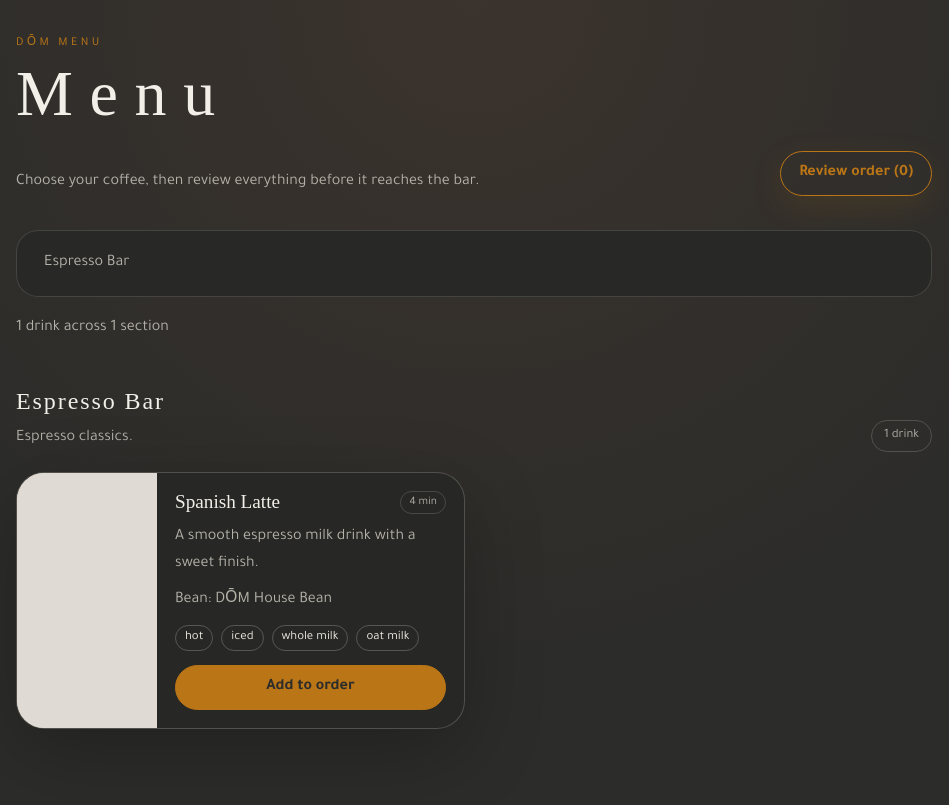
Test: Phase 3 guest frontend › removes the last drink from the cart and returns to the menu with a notice
Expected: the heading "Spanish Latte" is shown, [175,491,280,513]
Click the button with aria-label "add spanish latte". click: (310, 688)
box: [175,665,446,710]
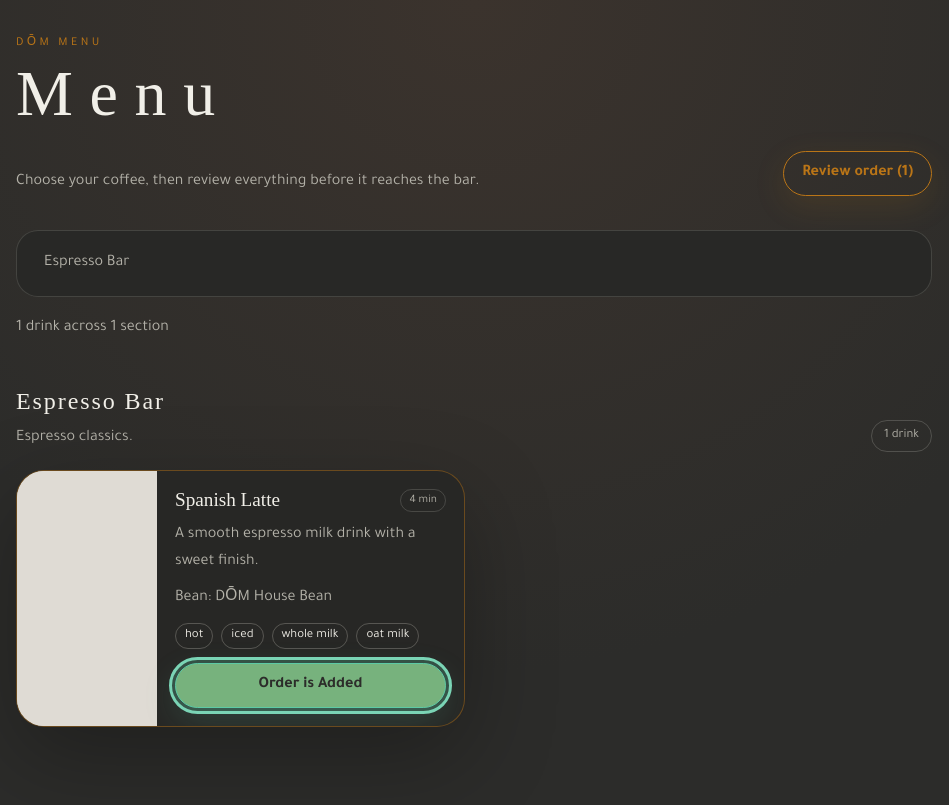
Click the link "Review order (1)". click: (858, 174)
box: [783,151,932,196]
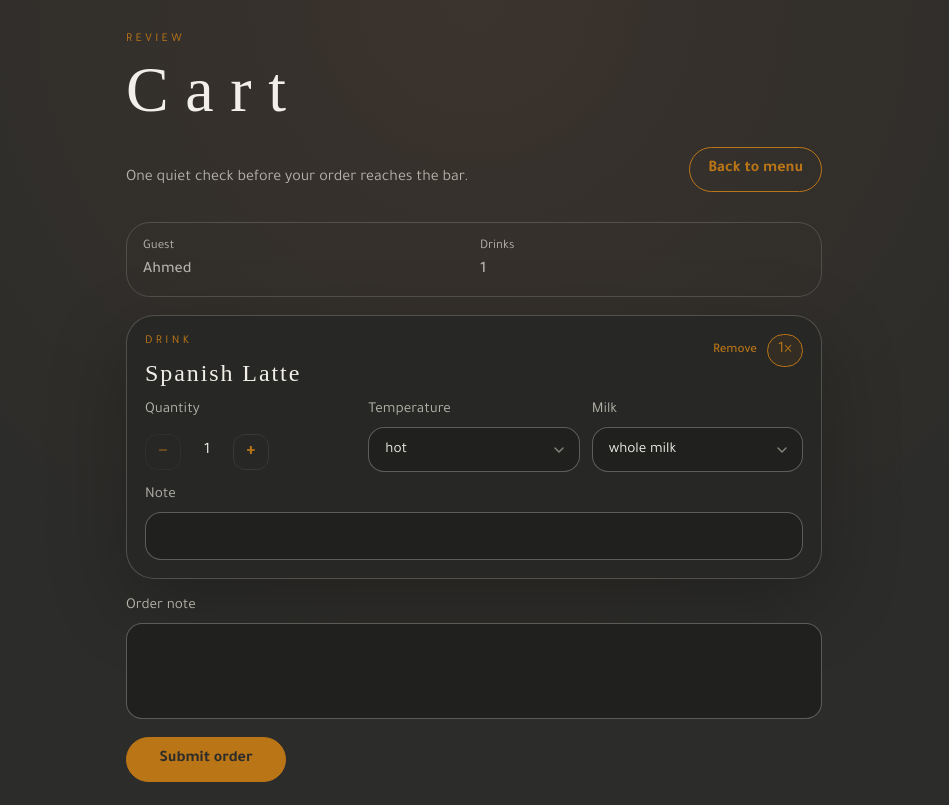
Click the button "Remove". click: (735, 351)
box: [713,343,757,359]
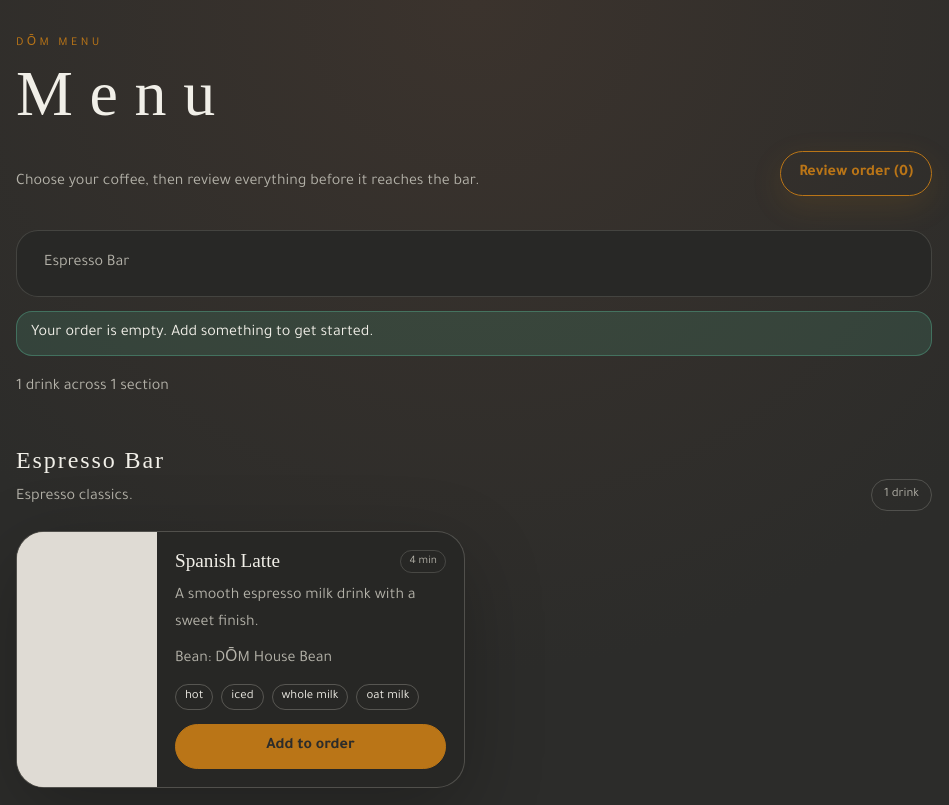
Now the heading "Menu" is shown, box [16,58,232,129]
Now the text "Your order is empty. Add something to get started." is shown, box [16,311,932,356]
Now the link "Review order (0)" is shown, box [780,151,932,196]
